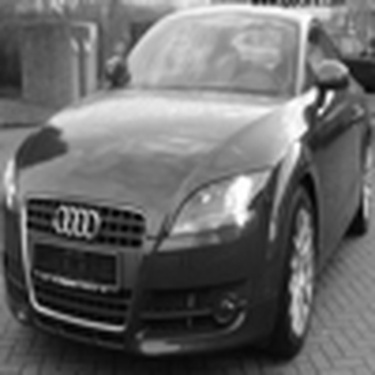car: (21, 16, 360, 355)
